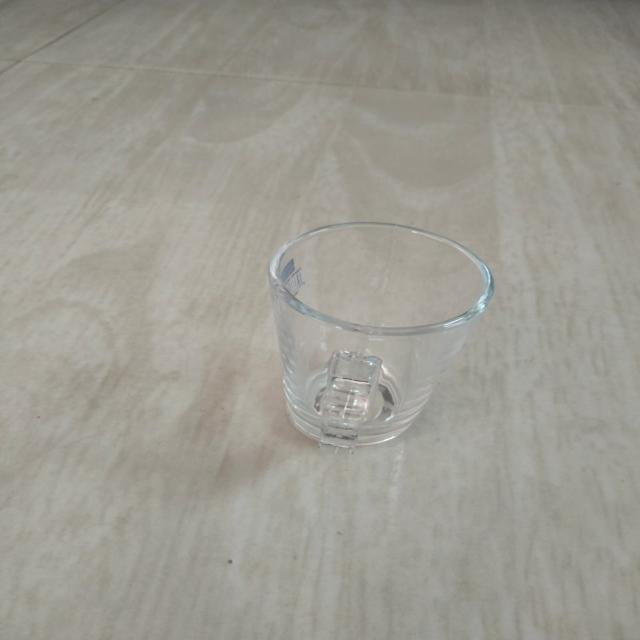glass-VX4N: (270, 220, 498, 449)
